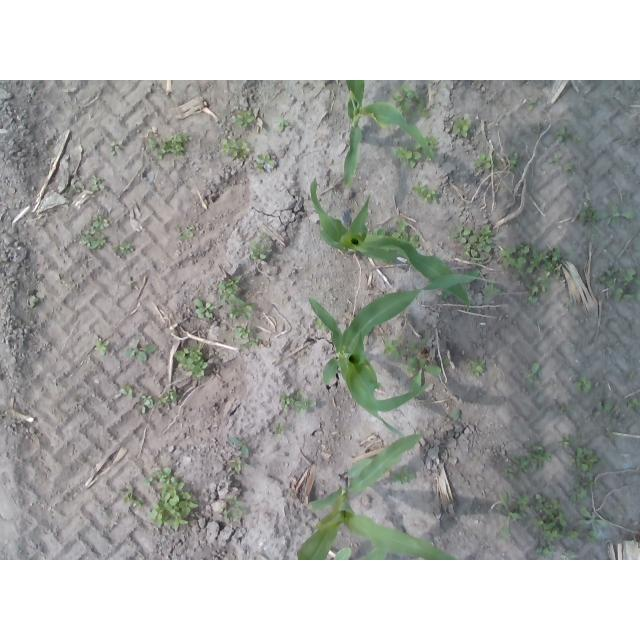Maize: (308, 273, 497, 440), (298, 436, 459, 561), (339, 80, 433, 188), (331, 546, 390, 560)
Weeds: (310, 176, 473, 313), (501, 244, 564, 305), (145, 466, 200, 530), (449, 223, 495, 266), (218, 273, 255, 319), (496, 492, 532, 539), (533, 493, 568, 541), (388, 85, 432, 120), (406, 355, 443, 395), (601, 265, 640, 302), (174, 343, 208, 377), (515, 443, 552, 473), (79, 214, 109, 250), (145, 134, 190, 158), (279, 390, 317, 414), (569, 445, 599, 475), (392, 219, 421, 250), (579, 506, 610, 531), (602, 204, 636, 226), (124, 339, 156, 362), (394, 143, 422, 169), (248, 233, 273, 260), (570, 480, 599, 503), (219, 137, 249, 159), (415, 135, 439, 162), (412, 181, 440, 204), (579, 200, 601, 224), (596, 400, 617, 425), (194, 297, 217, 319), (384, 337, 405, 360), (223, 496, 243, 520), (558, 432, 587, 448), (230, 437, 251, 459), (118, 488, 142, 507), (452, 116, 473, 137), (574, 376, 595, 396), (254, 153, 276, 172), (233, 110, 255, 129), (392, 465, 414, 484), (536, 540, 557, 559), (157, 389, 181, 404), (469, 358, 487, 378), (525, 362, 540, 385), (482, 283, 501, 301), (94, 338, 111, 357), (474, 153, 493, 170), (139, 394, 154, 414), (112, 241, 133, 255), (88, 176, 105, 193), (406, 338, 427, 351), (555, 126, 572, 142), (561, 548, 580, 561), (239, 339, 261, 350), (67, 182, 86, 194), (117, 385, 135, 397), (235, 325, 249, 340), (276, 117, 290, 132), (109, 141, 124, 155), (230, 459, 247, 471), (506, 153, 518, 169), (182, 227, 195, 241), (585, 530, 599, 543), (314, 317, 327, 331), (502, 466, 517, 478), (526, 97, 538, 112), (566, 529, 582, 540), (627, 397, 639, 411), (371, 228, 389, 237), (440, 288, 453, 300), (554, 152, 566, 165), (275, 422, 286, 434), (566, 165, 577, 176), (453, 408, 462, 421), (560, 404, 572, 413), (566, 299, 575, 309), (574, 135, 583, 144), (588, 234, 597, 243), (375, 381, 382, 390), (443, 359, 450, 366)
